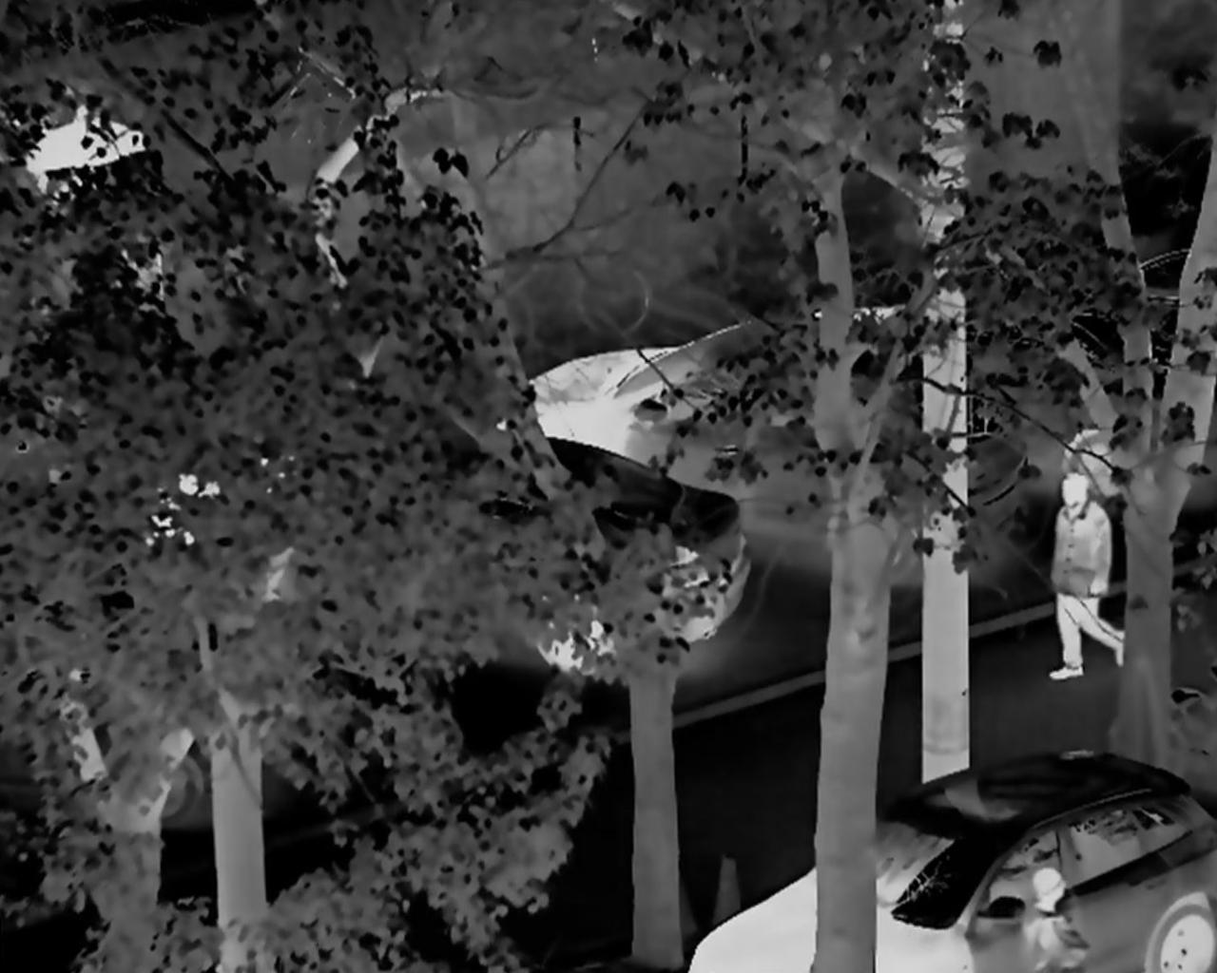person: (1044, 477, 1127, 677), (1025, 868, 1096, 973)
